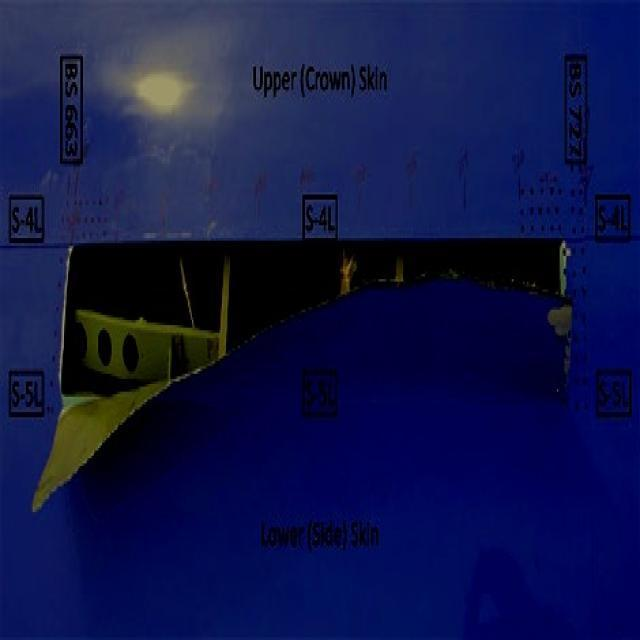crack: (30, 236, 569, 518)
